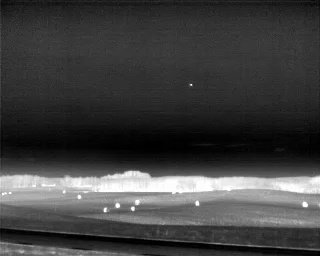BIRD: (188, 81, 194, 89)
